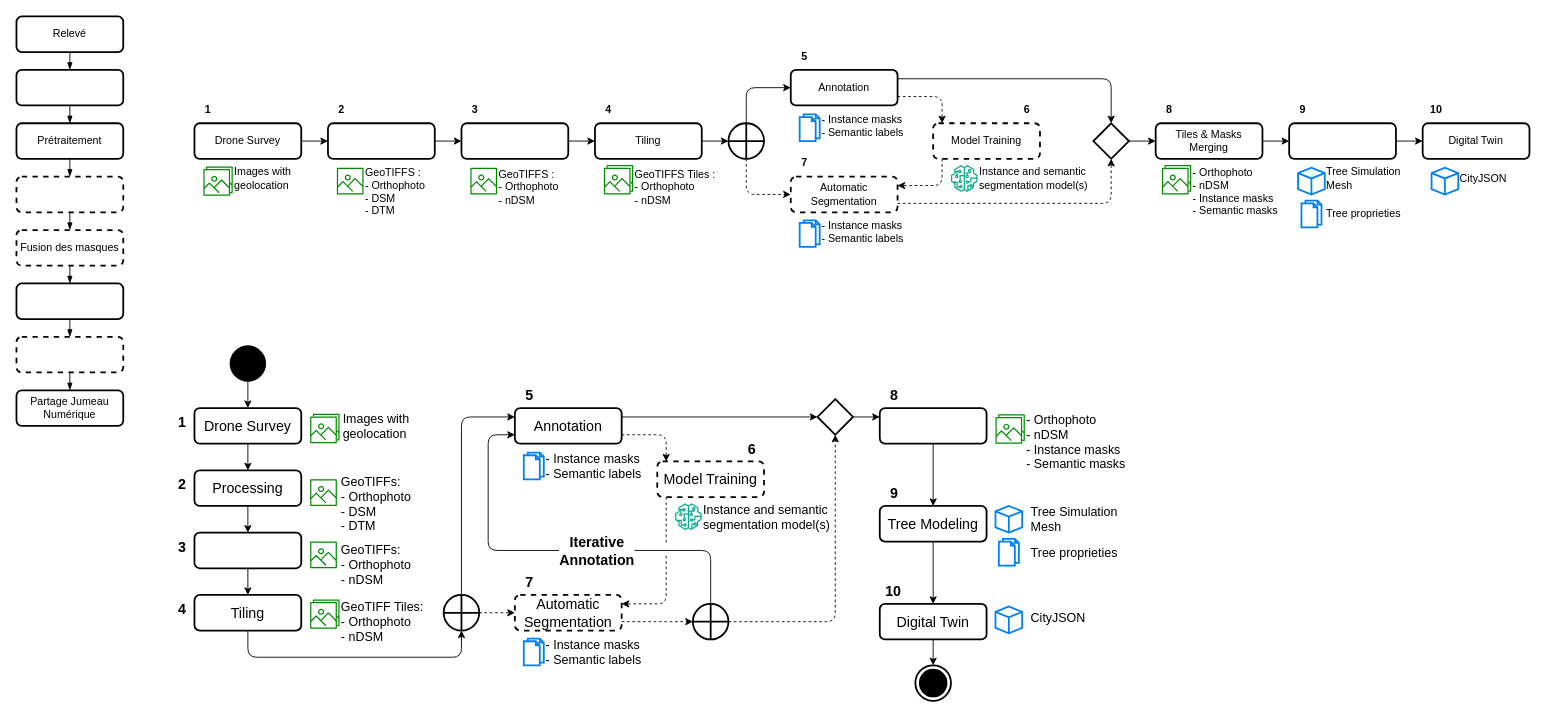
This 1545x716 diagram has some shape labels left out. The shapes that lost their labels are listed below. From the top down, each one's centre as x and y in pixels, then its label:
At [69,87]: "WebODM".
At [381,140]: "WebODM Processing".
At [514,140]: "Normalization & Registration".
At [1342,140]: "RBC Modeling".
At [69,194]: "Segmentation".
At [69,301]: "Modélisation".
At [69,354]: "Conversion CityJSON".
At [932,425]: "Tile Merging".
At [247,550]: "Normalization".
